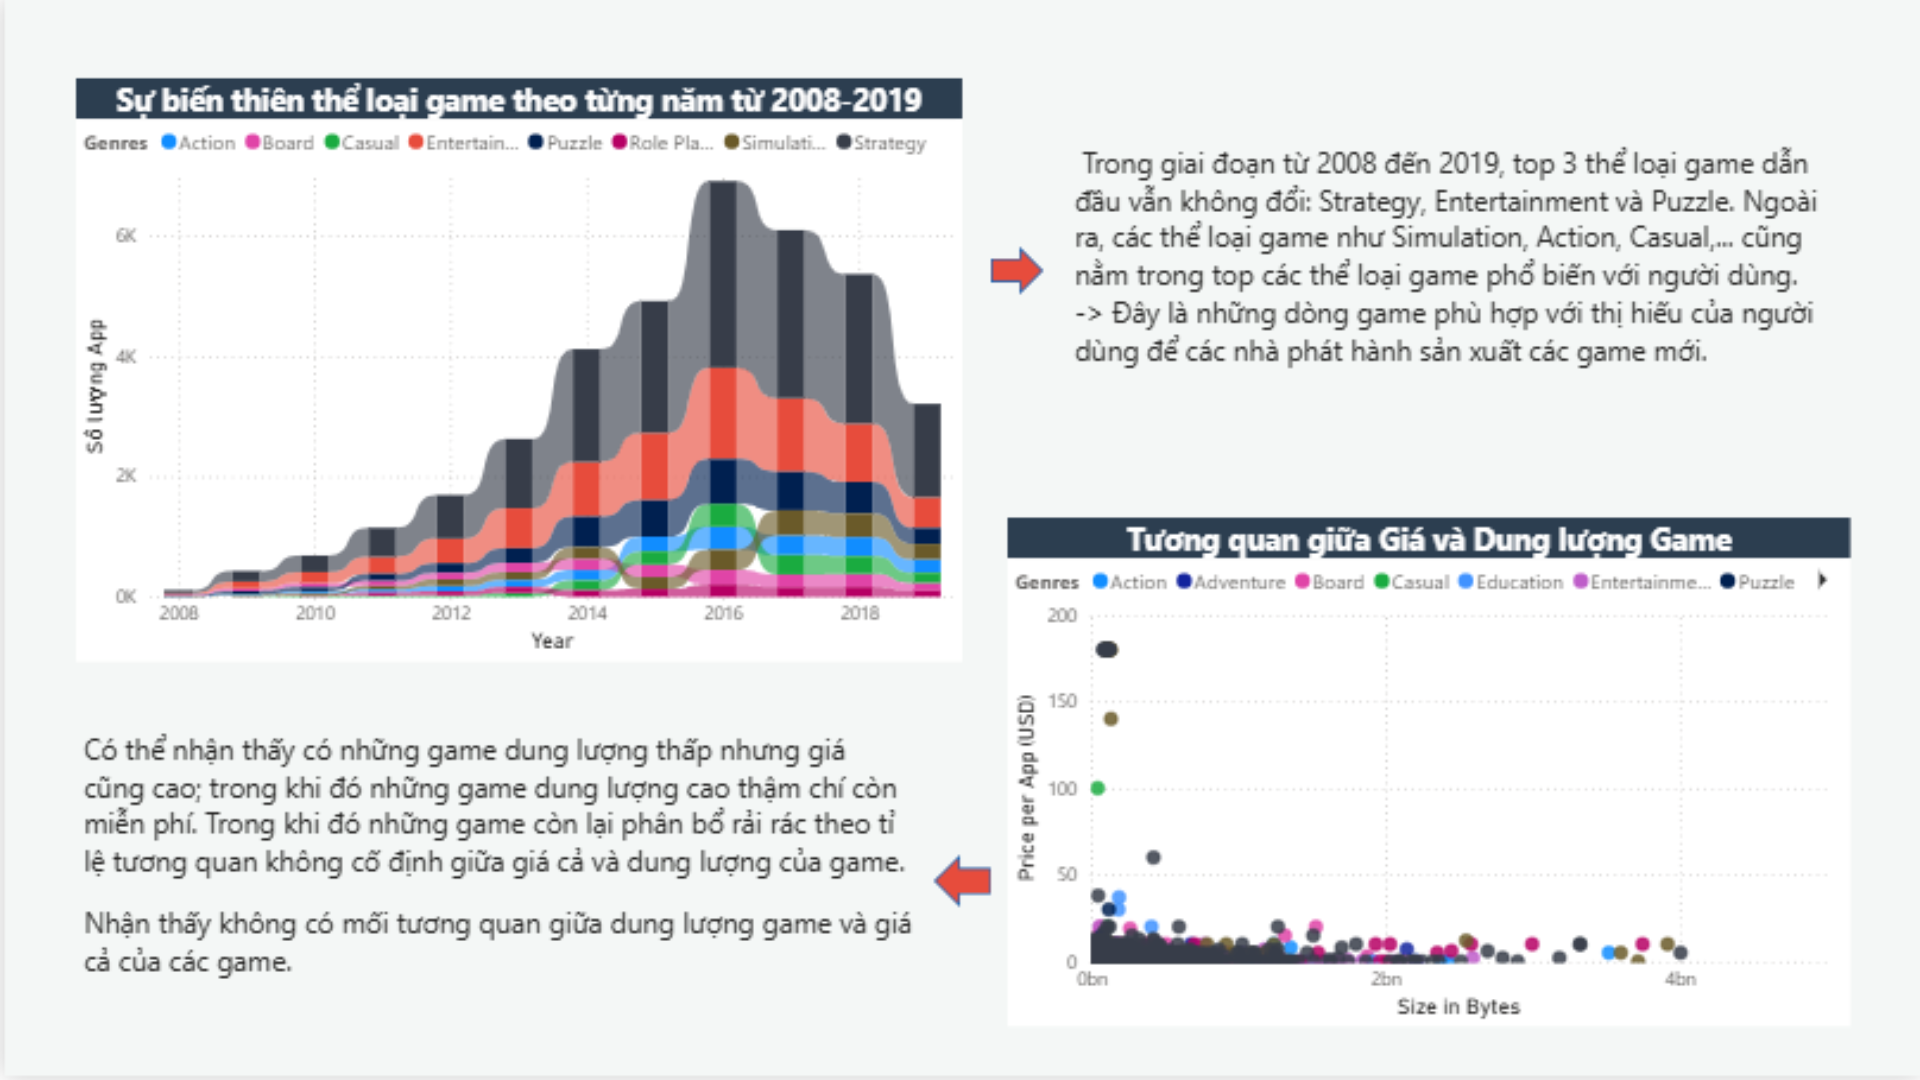

This screenshot's page, from the dashboard's own definition file:
{"tool":"powerbi","page":{"name":"Thể loại ","canvas":[1280,720],"ordinal":2},"visuals":[{"type":"ribbonChart","title":"Sự biến thiên thể loại game theo từng năm từ 2008-2019","fields":{"Category":["App Store Games.Release Date.Variation.Date Hierarchy.Year"],"Series":["Genres.Genres"],"Y":["CountNonNull(Genres.App ID)"]},"box":[48.3,53.3,591.7,390],"z":0},{"type":"scatterChart","title":"Tương quan giữa Giá và Dung lượng Game","fields":{"Y":["App Store Games.Price per App (USD)"],"Series":["Genres.Genres"],"X":["App Store Games.Size in Bytes"]},"box":[670,348.3,563.3,340],"z":1},{"type":"textbox","box":[48.3,483.3,563.3,205],"z":2},{"type":"shape","box":[620,573.3,38.3,35],"z":3},{"type":"textbox","box":[710,91.7,523.3,211.7],"z":4},{"type":"shape","box":[658.3,166.7,35,31.7],"z":5}]}

Visuals, with their boxes in screenshot pixels (x1, y1, x2, y2), scaled from the page's 1280x720 canvas onto the 1920x1080 screenshot:
"Sự biến thiên thể loại game theo từng năm từ 2008-2019" ribbonChart: Rect(72, 80, 960, 665)
"Tương quan giữa Giá và Dung lượng Game" scatterChart: Rect(1005, 522, 1850, 1032)
textbox: Rect(72, 725, 917, 1032)
shape: Rect(930, 860, 987, 912)
textbox: Rect(1065, 138, 1850, 455)
shape: Rect(987, 250, 1040, 298)
